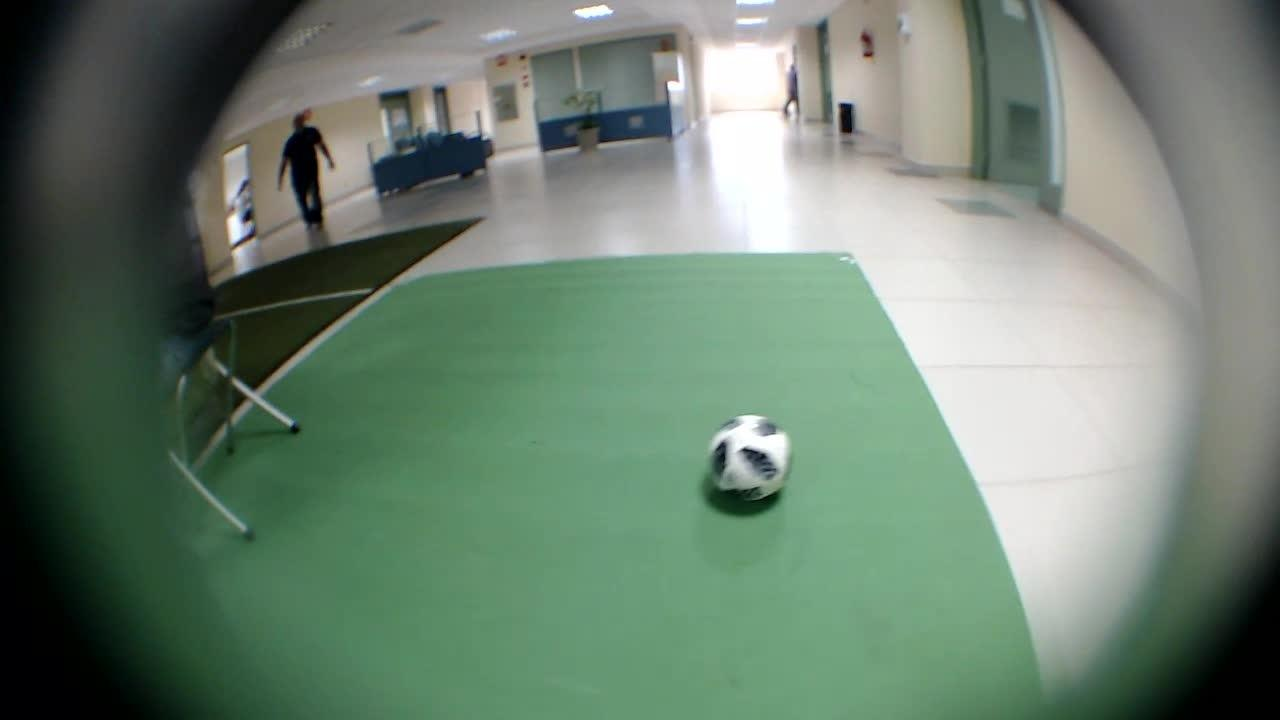ball: (691, 400, 803, 510)
